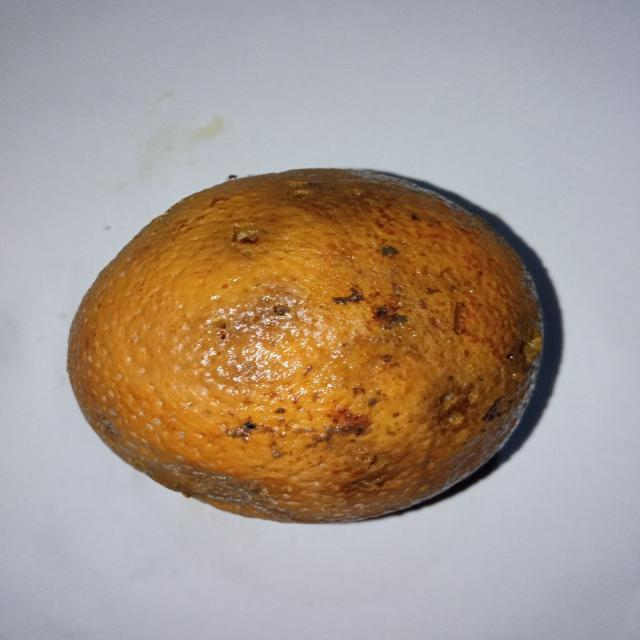rotten_orange: (65, 169, 548, 524)
